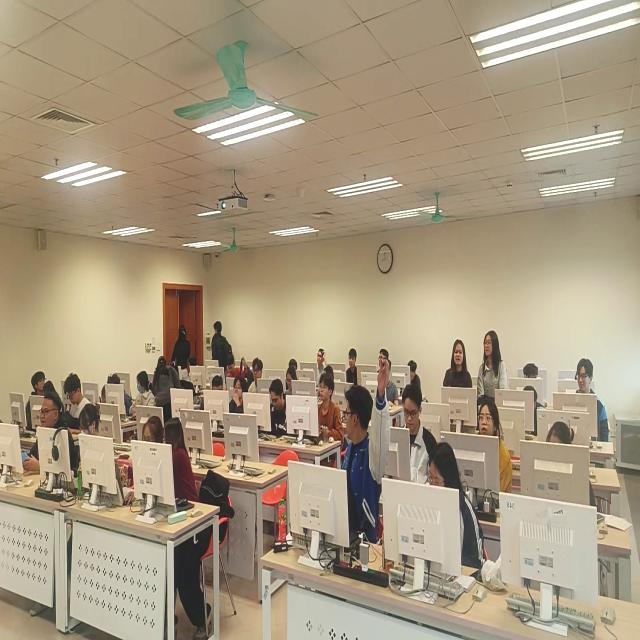raise_hand: (327, 357, 395, 565)
raise_head: (8, 391, 80, 487), (469, 399, 517, 503), (566, 359, 611, 442), (308, 372, 344, 455), (226, 373, 250, 432), (480, 327, 504, 363), (245, 358, 266, 398), (342, 348, 360, 386), (308, 348, 326, 380), (452, 342, 470, 372)
stand: (436, 335, 477, 416), (476, 326, 506, 425), (210, 312, 237, 383), (155, 352, 178, 433), (173, 322, 192, 391)
using_computer: (412, 446, 483, 575), (531, 419, 595, 520), (389, 385, 438, 488), (120, 416, 169, 502), (68, 403, 106, 492), (262, 380, 297, 449), (513, 387, 546, 451), (123, 372, 159, 430), (97, 369, 131, 420), (62, 374, 94, 420), (204, 371, 231, 419), (393, 361, 422, 401), (518, 357, 542, 401), (281, 365, 299, 406), (222, 354, 243, 385)
